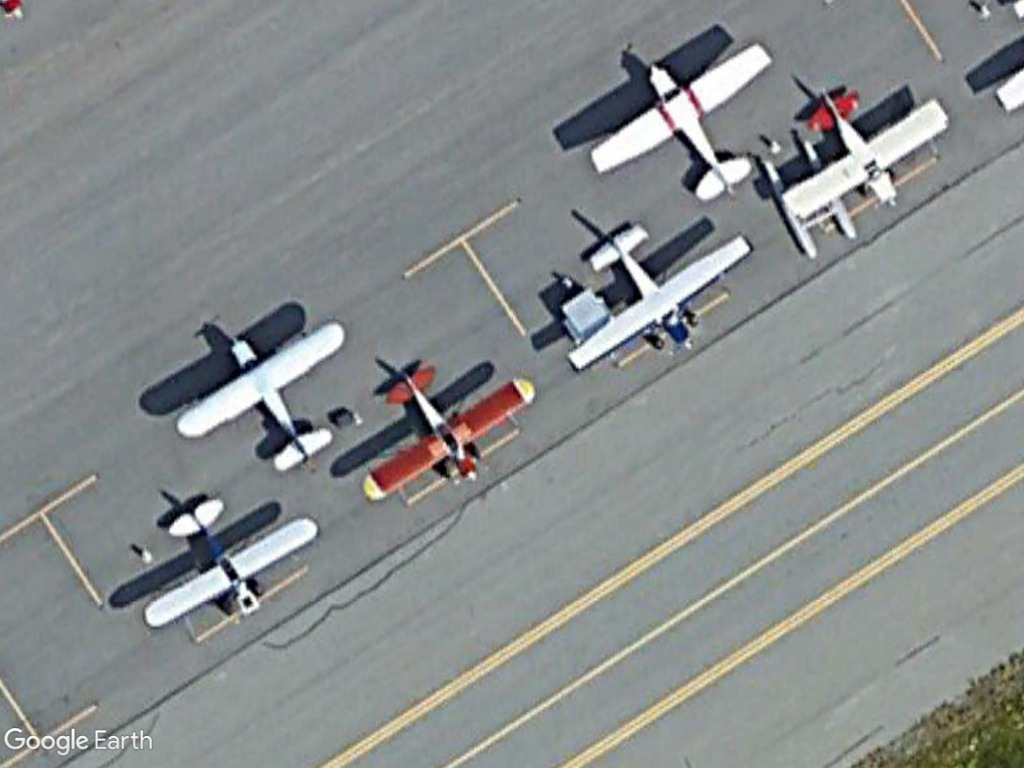trainer: (586, 39, 780, 206), (168, 314, 355, 477), (560, 224, 753, 374), (775, 71, 959, 221), (136, 489, 318, 640), (357, 361, 544, 506)
